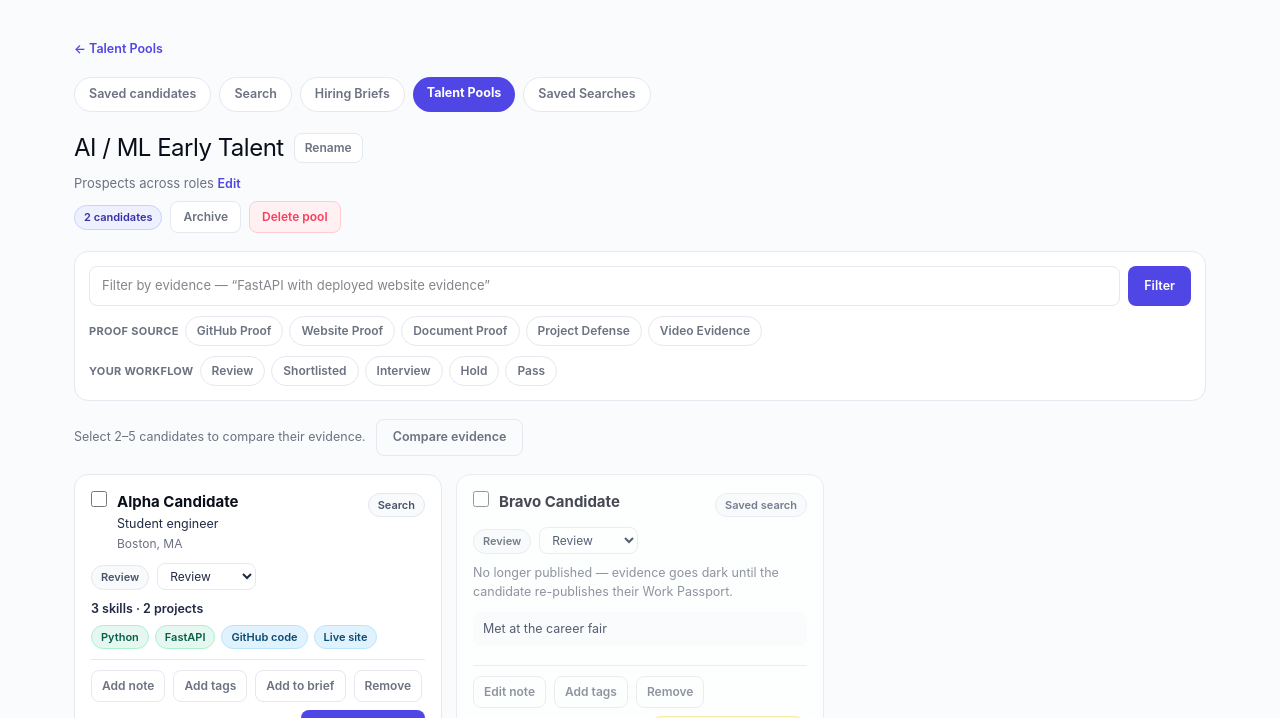
PoolDetailView › archives and restores the pool
Expected: the heading "AI / ML Early Talent" is shown, [74,130,284,166]
What coordinates should you click on to do the following:
click the button with test id "pool-archive"
I would click on:
 (206, 217)
Its box is [170,201,241,233].
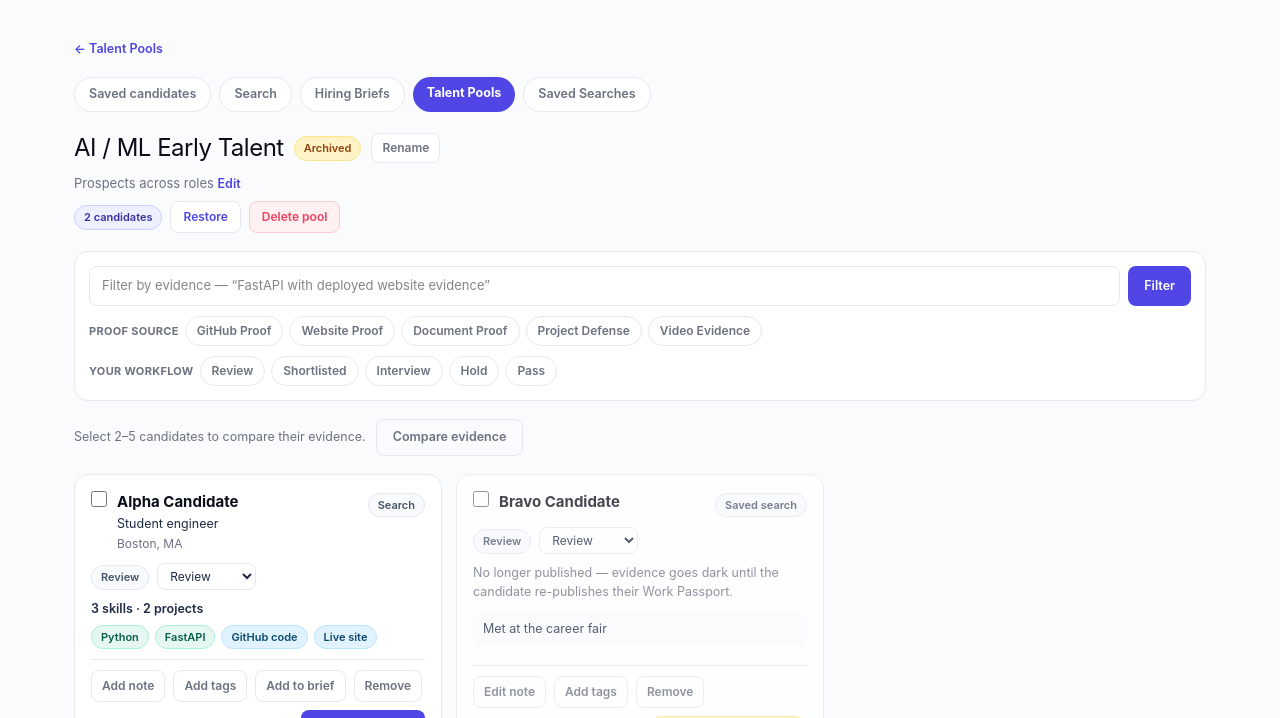
Result: the button with test id "pool-restore" is shown at [170,201,241,233]
